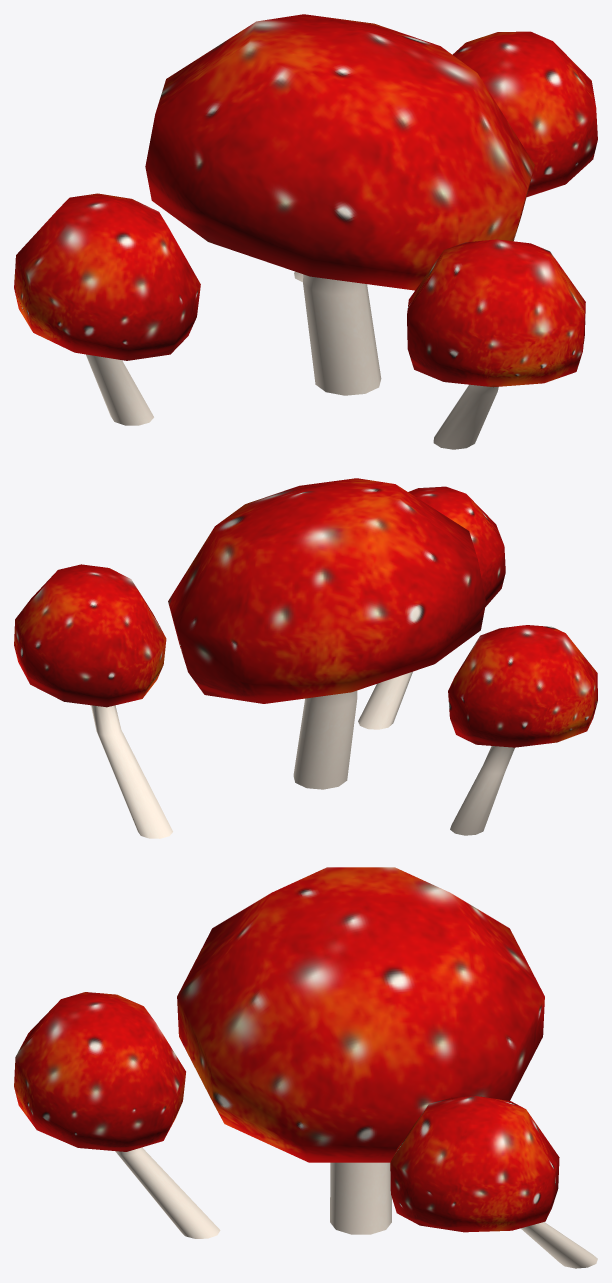
File: mushroom 11.fbx
3 renders of one model, top to bottom at view 1: azimuth 30°, elevation 25°; view 2: azimuth 150°, elevation 25°; view 3: azimuth 270°, elevation 25°, orthographic. The views are drawn at different scales.
Visible parts, largest first — view 1: mushroom_11; view 2: mushroom_11; view 3: mushroom_11.
Part boxes in pixels (<box>): mushroom_11: <box>14,14,597,449</box>; mushroom_11: <box>14,478,597,838</box>; mushroom_11: <box>14,867,597,1268</box>.
Bounding box in the file's own units: 0.7743 × 0.4078 × 0.6773.
